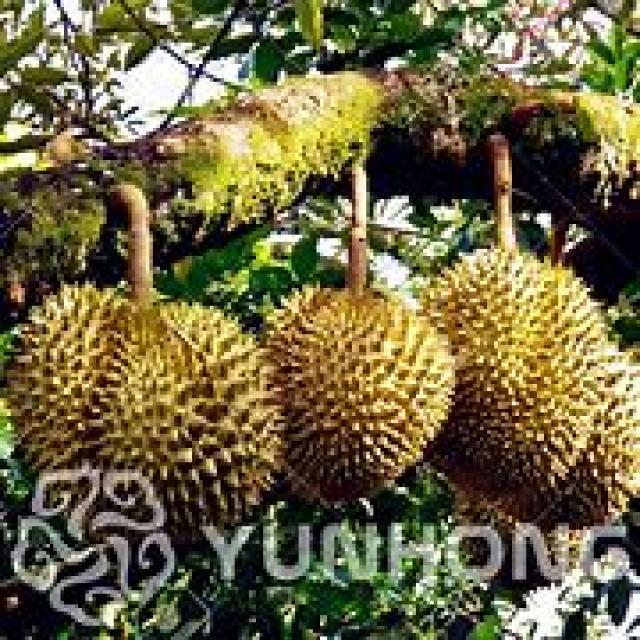mature: (11, 286, 280, 534), (428, 251, 616, 491), (268, 288, 454, 503)
